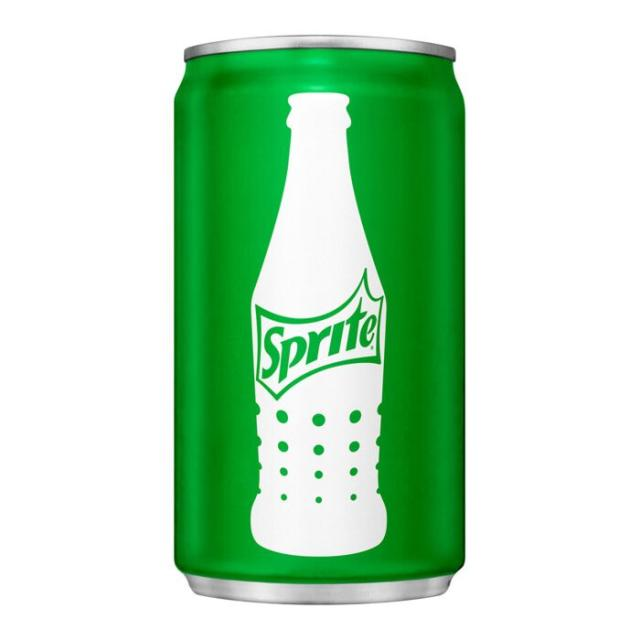sprite: (172, 35, 470, 602)
